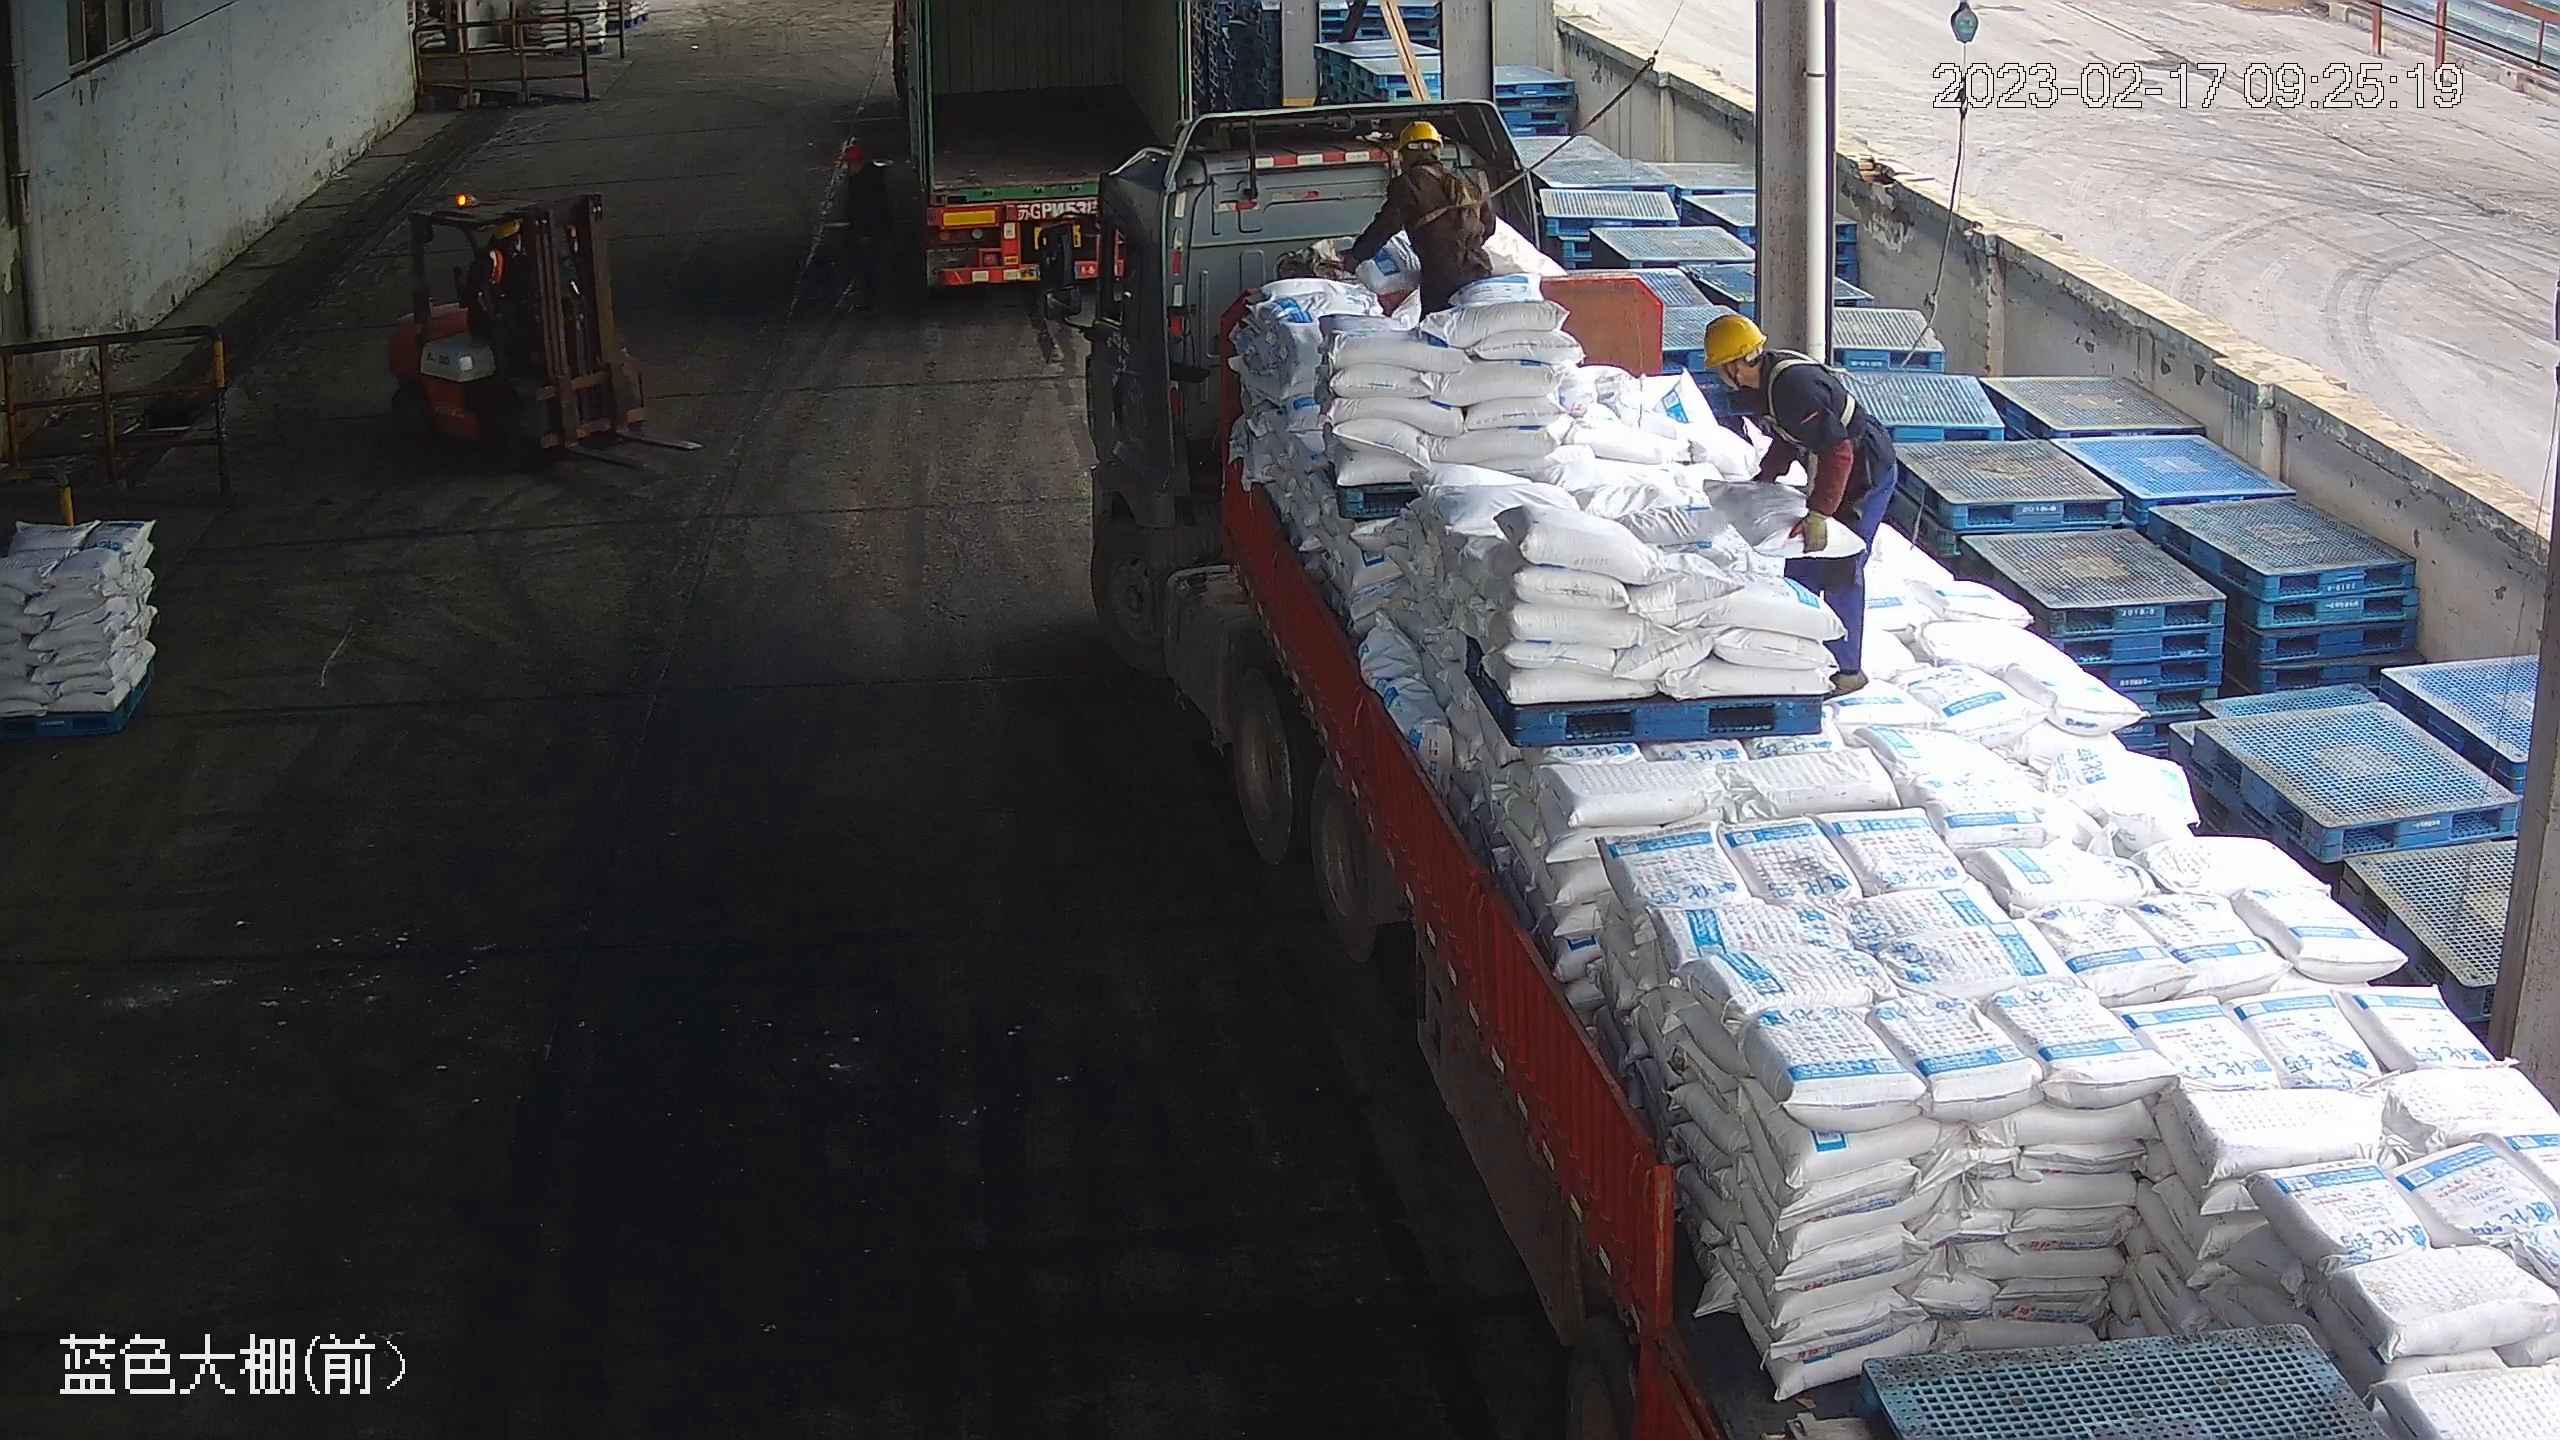belt: (1759, 352, 1863, 440), (1405, 155, 1475, 226)
head: (1702, 312, 1825, 423), (1383, 120, 1477, 204), (833, 137, 887, 196)
helmet: (1699, 313, 1765, 366), (1397, 116, 1441, 149), (838, 137, 869, 160), (490, 218, 521, 237)
people: (1700, 311, 1902, 698), (1333, 116, 1492, 320), (827, 135, 893, 319)
truck: (1041, 141, 2556, 1440), (880, 1, 1195, 291)
